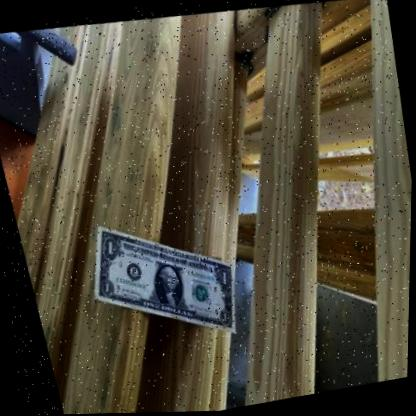one-front: (89, 225, 228, 333)
